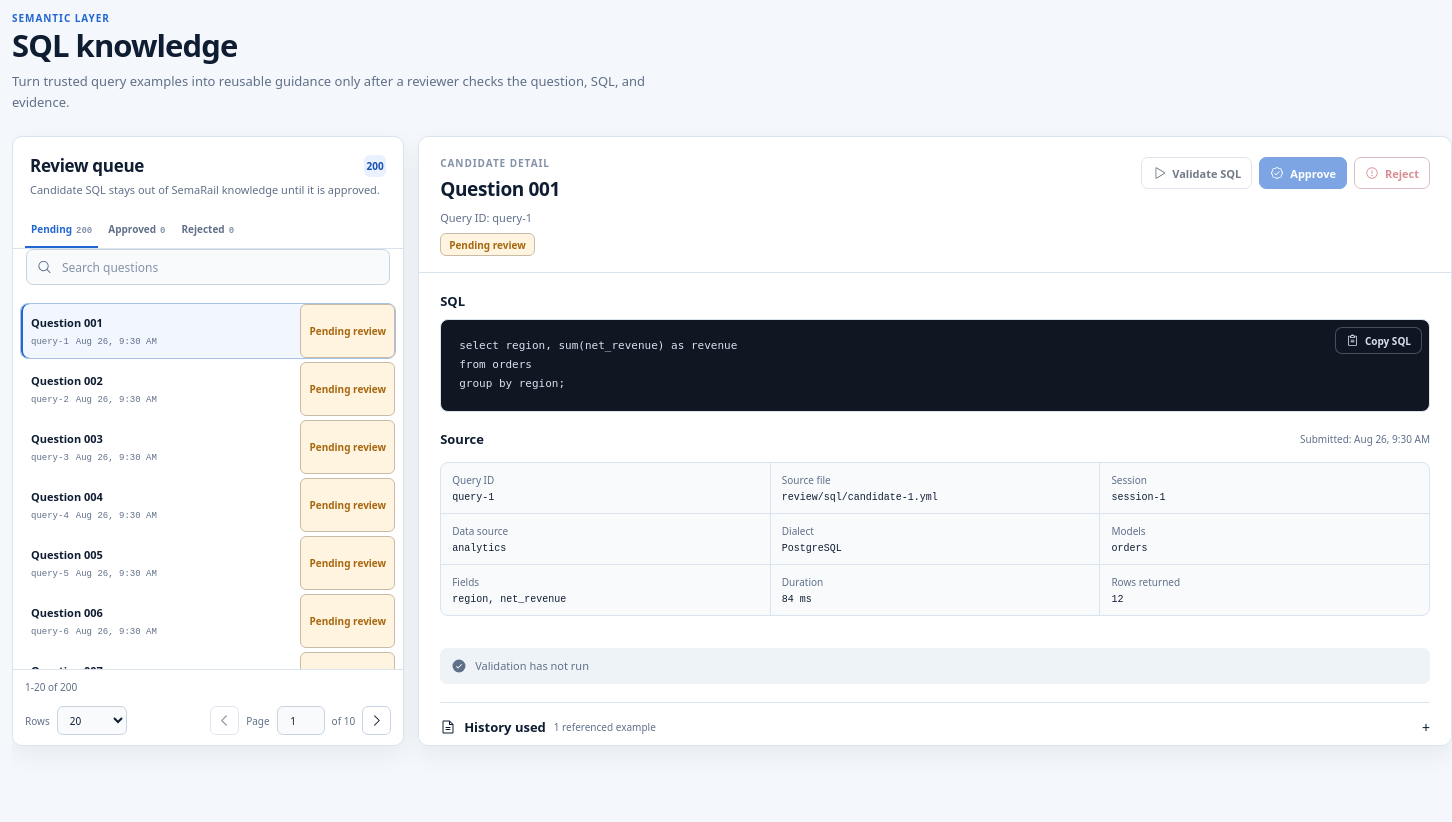
SqlKnowledgeWorkbench › bounds a 200-candidate review queue and preserves the selected detail
Expected: the text "1-20 of 200" is shown, x1=25 y1=680 x2=77 y2=694
Click the button named "Next page" at point(377, 721), box x1=362 y1=706 x2=391 y2=735
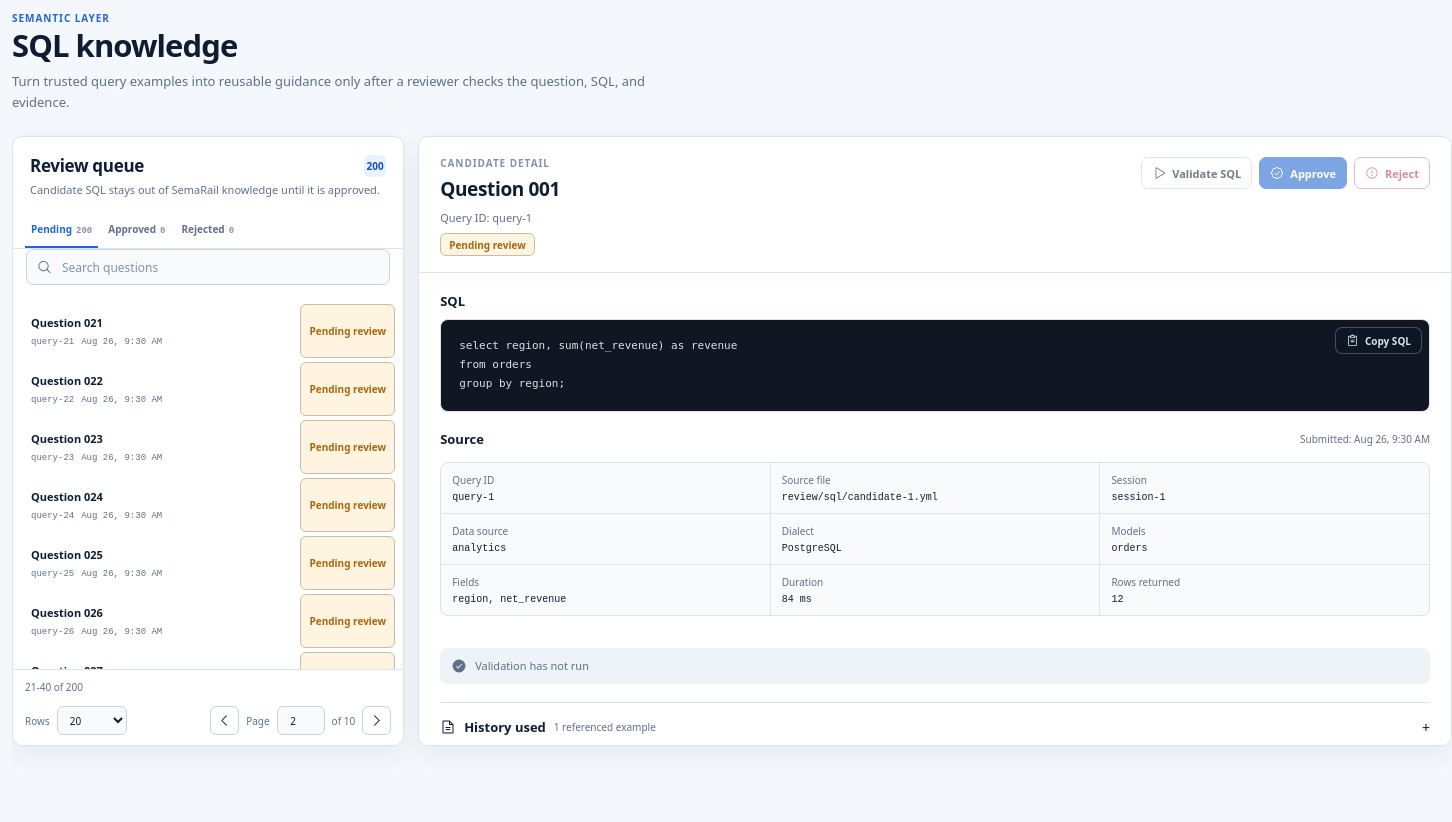
Expected: the heading "Question 001" is shown, x1=440 y1=177 x2=560 y2=202
Expected: the text "21-40 of 200" is shown, x1=25 y1=680 x2=83 y2=694
